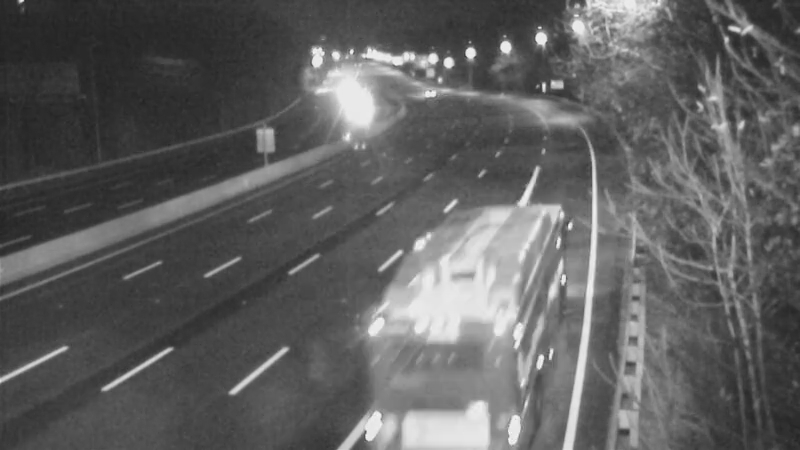vehicle: (433, 252, 513, 332), (404, 67, 454, 117), (328, 83, 378, 133)
